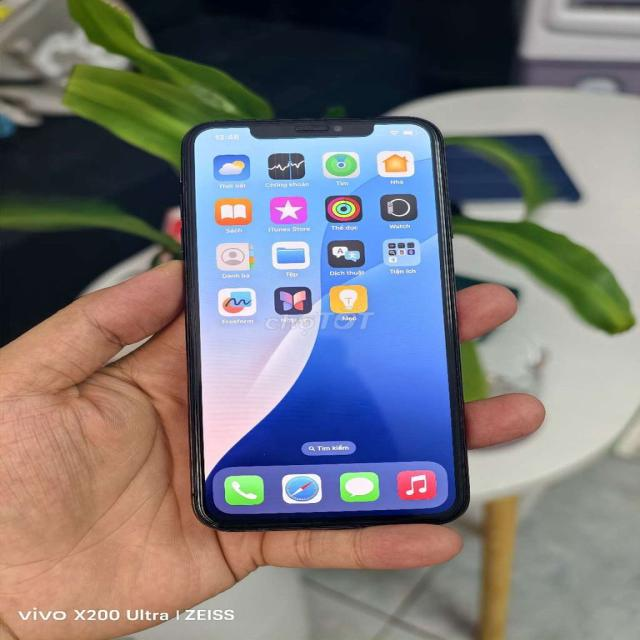gen_x_xs: (178, 109, 480, 540)
